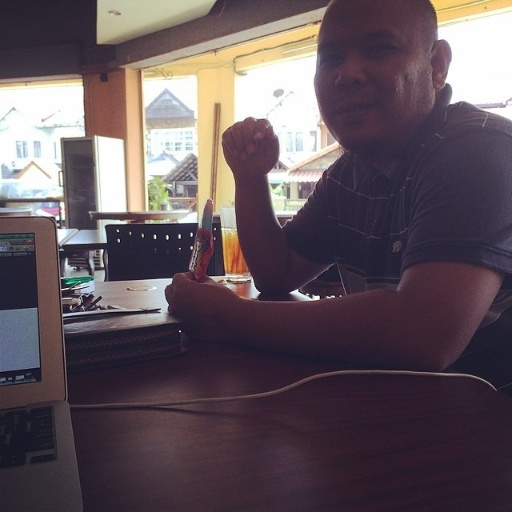hand: (161, 269, 241, 342), (220, 115, 278, 180)
